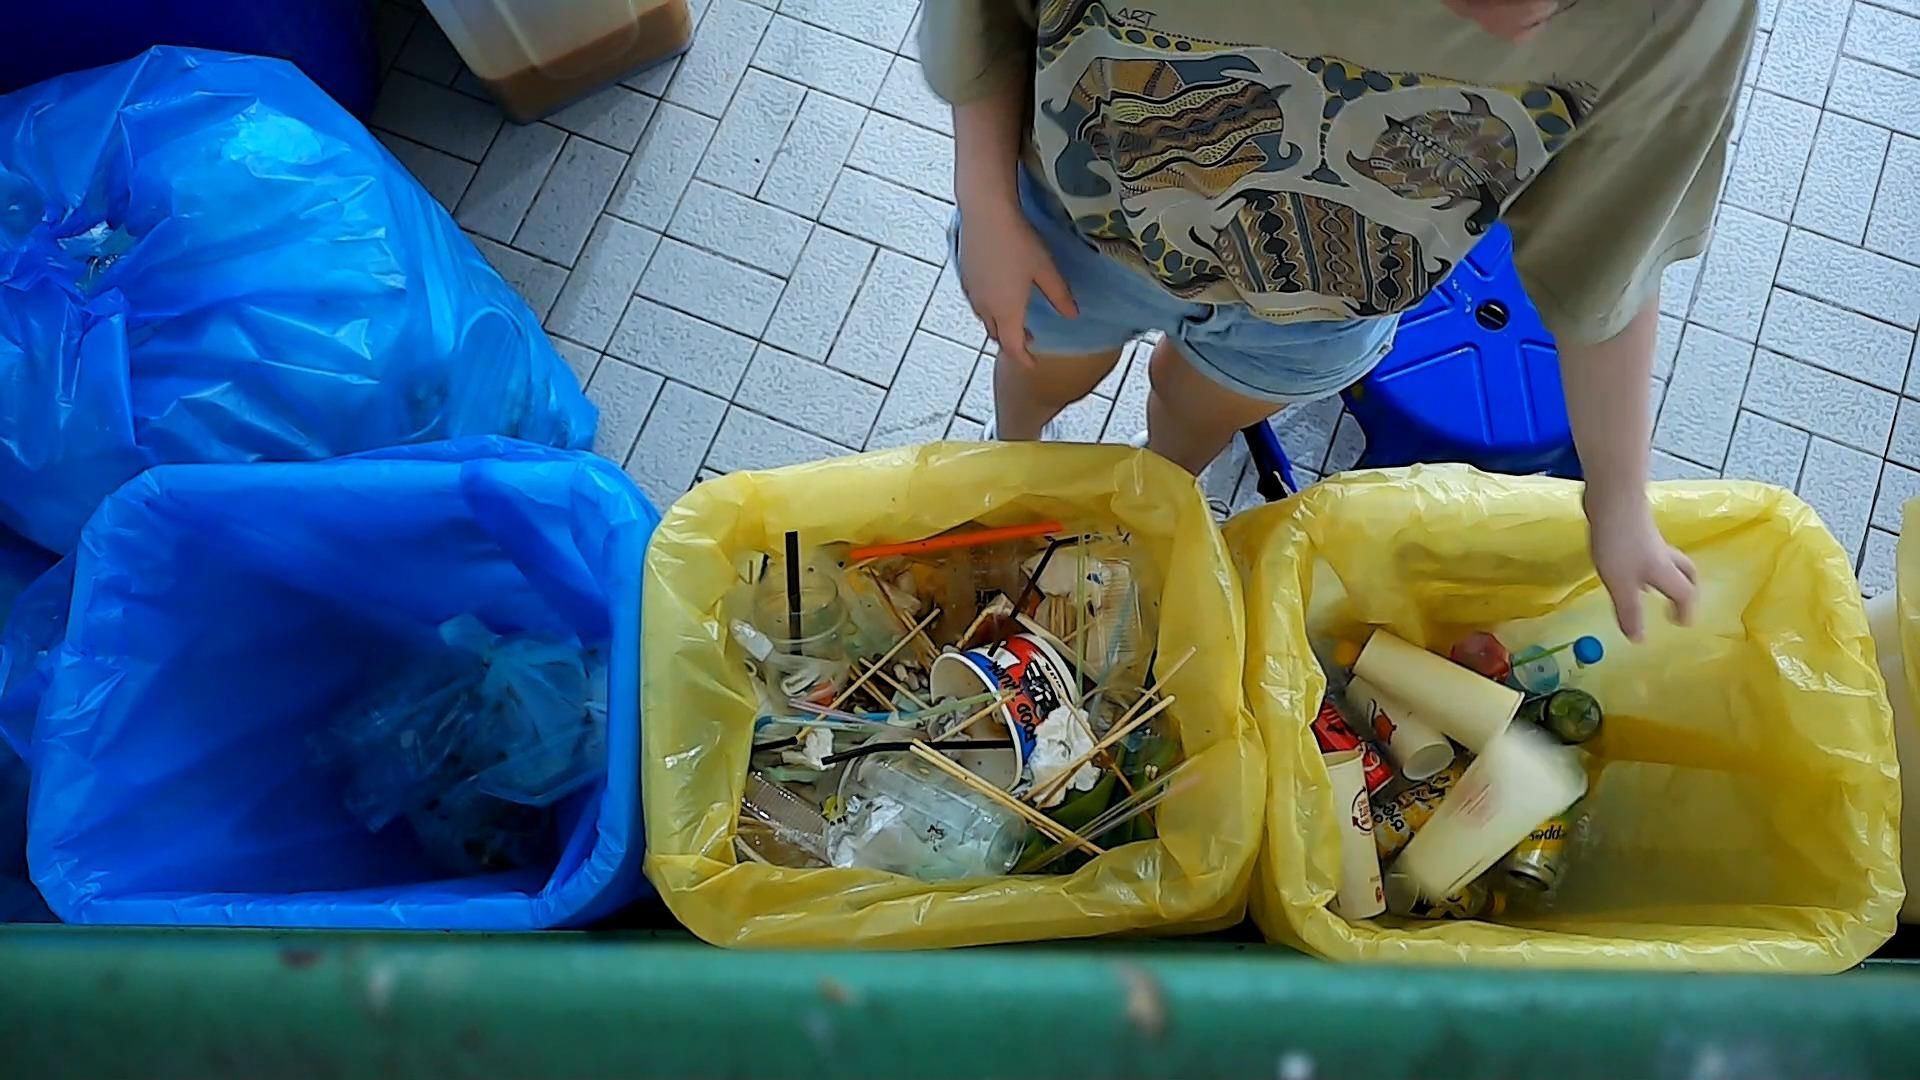can: (1369, 758, 1485, 865), (1495, 783, 1585, 906), (1300, 692, 1396, 798)
dirty food container: (920, 632, 1083, 803)
filled plastic bag: (299, 655, 469, 841), (431, 616, 584, 777)
food container: (1071, 538, 1170, 674)
plastic bottle: (1502, 626, 1611, 707), (1523, 690, 1610, 746)
plastic cup: (833, 727, 1023, 880), (749, 564, 851, 674)
sticks: (1026, 642, 1204, 808), (906, 733, 1110, 862), (793, 605, 942, 746), (873, 576, 940, 658), (843, 657, 894, 712)
straw: (1011, 748, 1213, 885), (843, 518, 1067, 566), (985, 535, 1064, 665), (810, 736, 1019, 773), (1071, 517, 1095, 711), (779, 529, 807, 658), (891, 692, 992, 727), (791, 696, 873, 727), (740, 735, 808, 761)
tissue paper: (1029, 703, 1105, 808)
zero waste cup: (1399, 720, 1588, 901), (1352, 629, 1526, 769), (1315, 749, 1396, 919), (1345, 671, 1458, 783)
